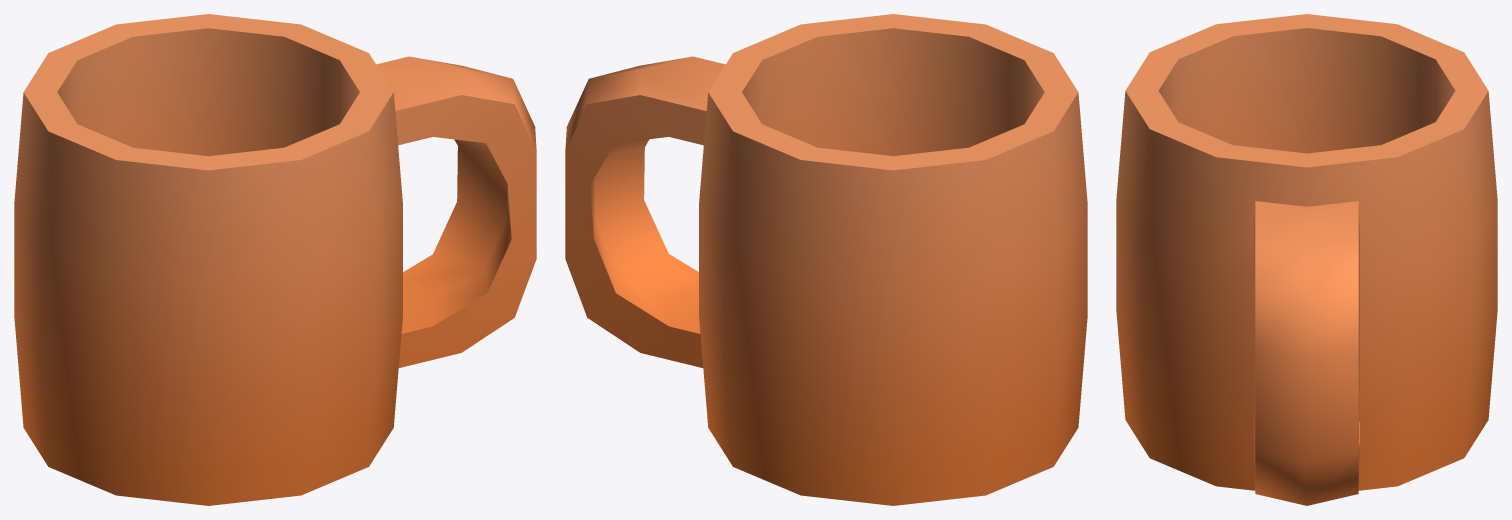
The model's file is mug.glb.
The picture shows the model from 3 angles, left to right: view 1: azimuth 30°, elevation 25°; view 2: azimuth 150°, elevation 25°; view 3: azimuth 270°, elevation 25°; orthographic projection.
Visible parts, largest first — view 1: Mug; view 2: Mug; view 3: Mug.
Boxes of the visible parts, bbox=[...] form: Mug: bbox=[14, 14, 536, 505]; Mug: bbox=[565, 14, 1087, 505]; Mug: bbox=[1116, 14, 1497, 505].
Size of the model in its own units: 0.261 by 0.1691 by 0.1775.
1 material, 1 textured.
